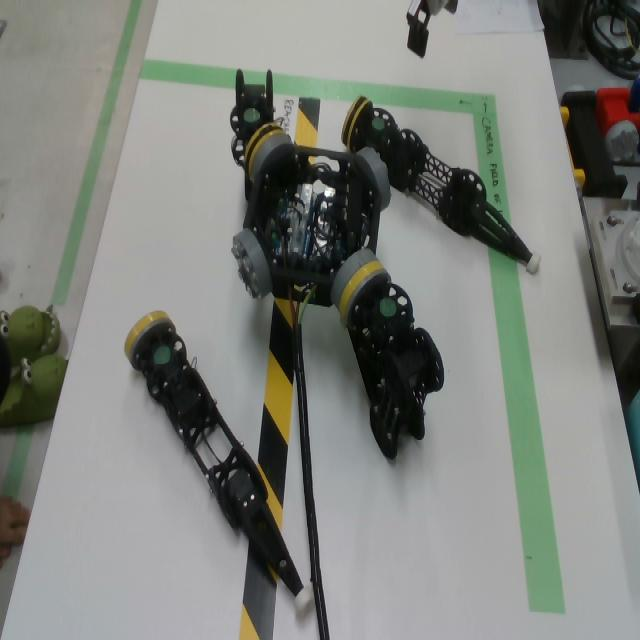body: (243, 147, 382, 307)
body_connector: (231, 229, 273, 300), (330, 248, 377, 307), (354, 147, 391, 211), (251, 135, 295, 181)
leg: (124, 311, 313, 615), (341, 95, 542, 275), (339, 260, 445, 461), (230, 69, 284, 201)
leg_connector: (338, 261, 391, 319), (124, 311, 177, 368), (244, 123, 284, 179), (341, 95, 373, 152)
leg_marker: (380, 297, 396, 317), (154, 347, 170, 364), (244, 108, 260, 123), (373, 117, 384, 129)
